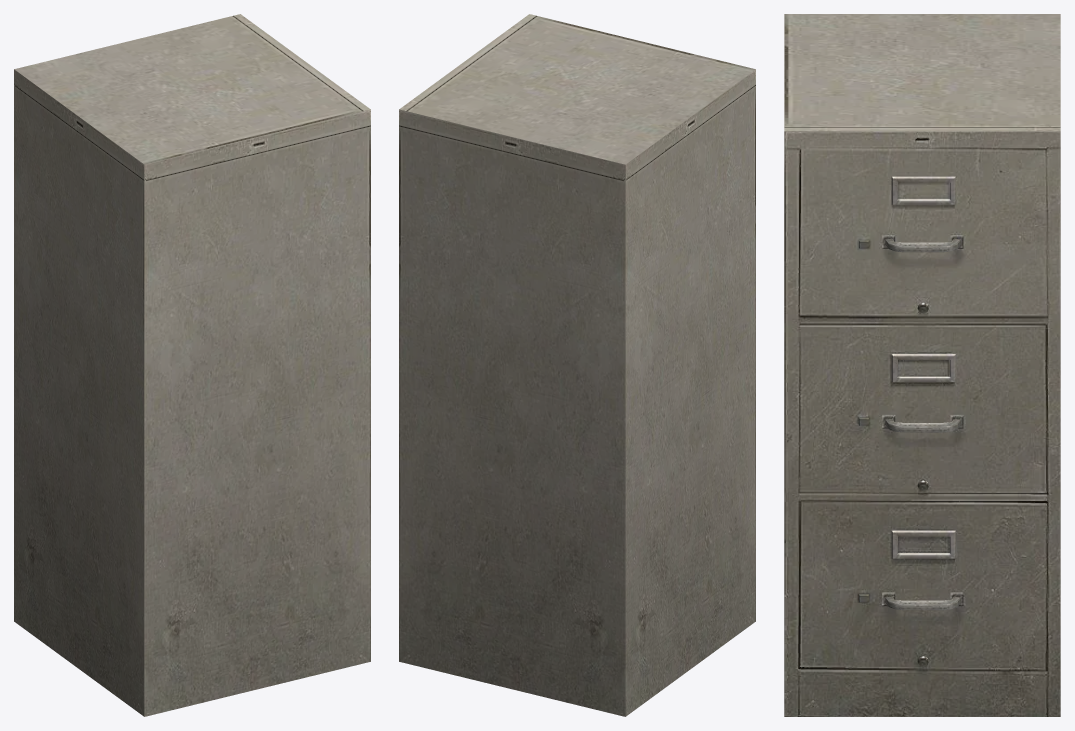
File: file_cabinet3.glb
3 views of the same model, side by side, from view 1: azimuth 30°, elevation 25°; view 2: azimuth 150°, elevation 25°; view 3: azimuth 270°, elevation 25° (orthographic). The views are drawn at different scales.
Parts seen in each view (by area): view 1: 0_File_cabinet3; view 2: 0_File_cabinet3; view 3: 0_File_cabinet3.
Part boxes in pixels (x1,y1,x2,y2): 0_File_cabinet3: [14, 14, 370, 716]; 0_File_cabinet3: [399, 14, 755, 716]; 0_File_cabinet3: [784, 14, 1060, 716].
Size of the model in its own units: 0.5326 by 1.18 by 0.5051.
Materials: 1 (1 with a texture image).
